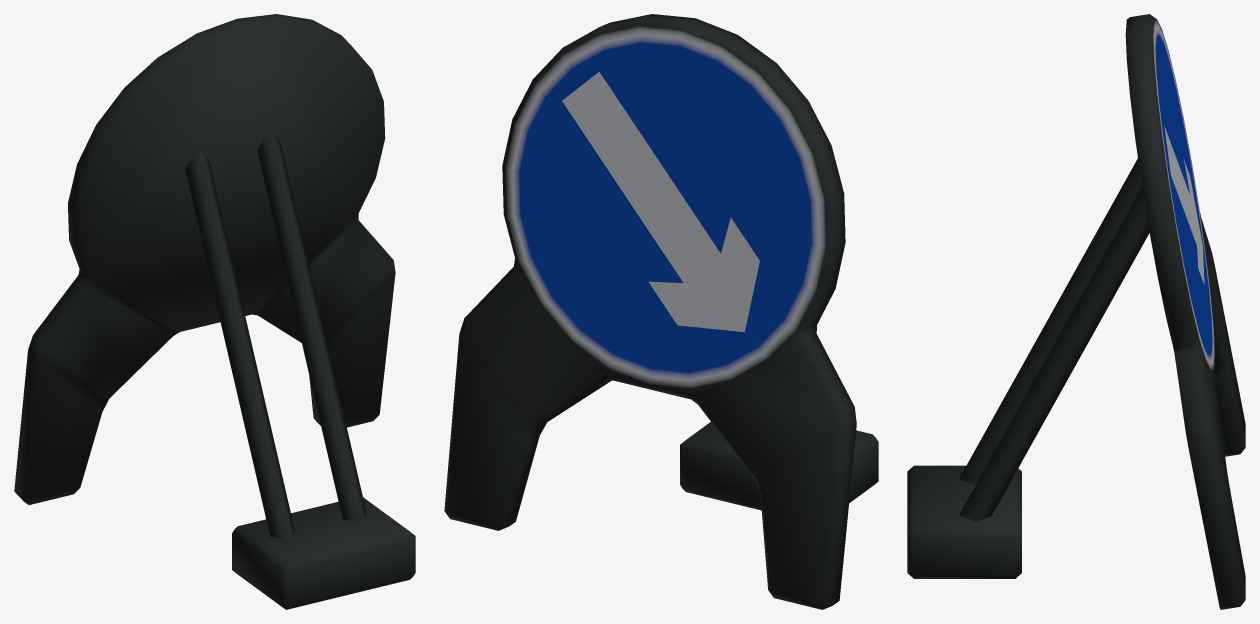
The model's file is TCP2_Demo_RoadWorksArrow_Flat.fbx.
3 views of the same model, side by side, from view 1: azimuth 30°, elevation 25°; view 2: azimuth 150°, elevation 25°; view 3: azimuth 270°, elevation 25° (orthographic). The views are drawn at different scales.
Parts seen in each view (by area): view 1: RoadWorksArrow_flat; view 2: RoadWorksArrow_flat; view 3: RoadWorksArrow_flat.
Boxes of the visible parts, x1,y1,x2,y2 form: RoadWorksArrow_flat: (14, 14, 415, 609); RoadWorksArrow_flat: (444, 14, 878, 609); RoadWorksArrow_flat: (907, 14, 1245, 609).
Size of the model in its own units: 1.51 by 2 by 1.19.
